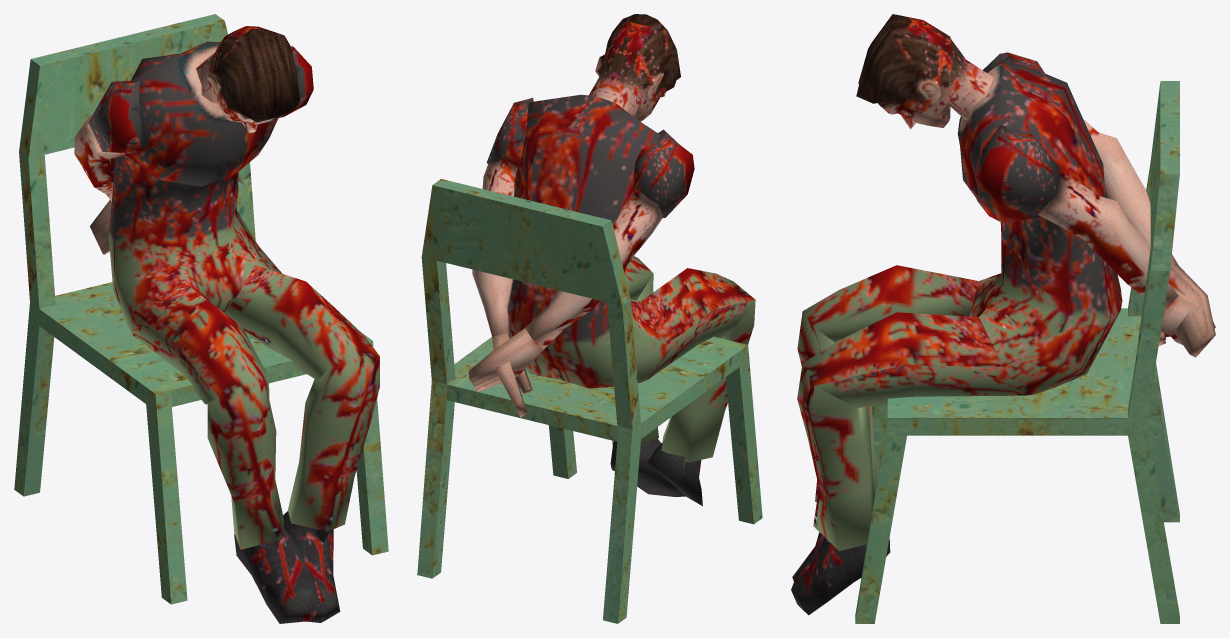
Rendered from player_trapped.glb.
The picture shows the model from 3 angles, left to right: view 1: azimuth 30°, elevation 25°; view 2: azimuth 150°, elevation 25°; view 3: azimuth 270°, elevation 25°; orthographic projection. The views are drawn at different scales.
Visible parts, largest first — view 1: Chair; view 2: Chair; view 3: Chair.
Boxes of the visible parts, box(x1,y1,x2,y2) form: Chair: box(14, 14, 388, 623); Chair: box(417, 14, 762, 623); Chair: box(791, 14, 1215, 623).
Size of the model in its own units: 0.8 by 1.97 by 1.31.
2 materials, 2 textured.
